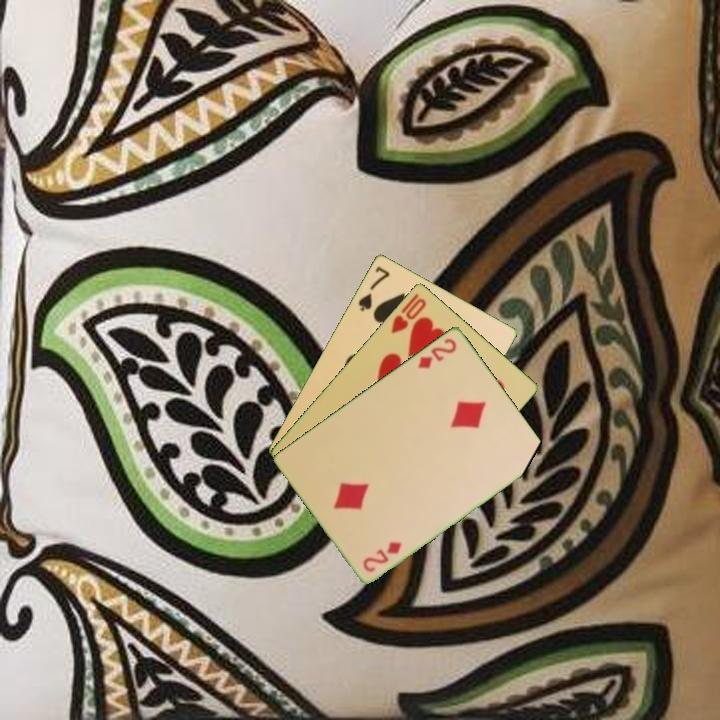10h: (387, 289, 429, 336)
2d: (359, 537, 405, 575), (414, 334, 460, 371)
7s: (354, 262, 393, 314)
